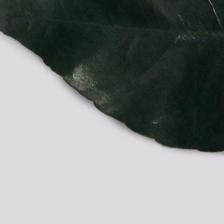healthy: (2, 2, 224, 179)
